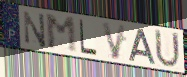A: (127, 27, 157, 66)
L: (78, 18, 98, 58)
M: (44, 14, 79, 55)
N: (22, 10, 47, 50)
U: (154, 28, 182, 70)
V: (100, 21, 127, 61)
